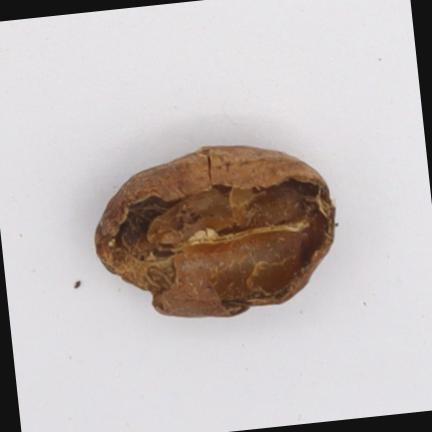husk: (96, 146, 335, 316)
